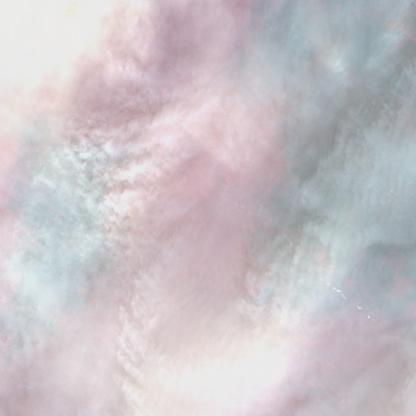fire: (241, 236, 416, 343), (0, 286, 33, 380)
